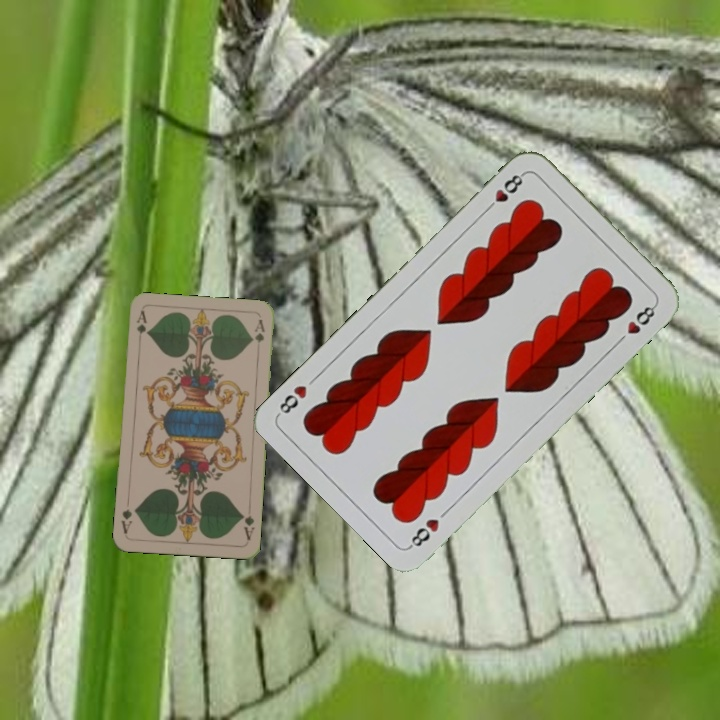GA: (238, 503, 257, 543), (132, 307, 149, 347)
H8: (481, 169, 528, 215), (405, 514, 442, 551)
